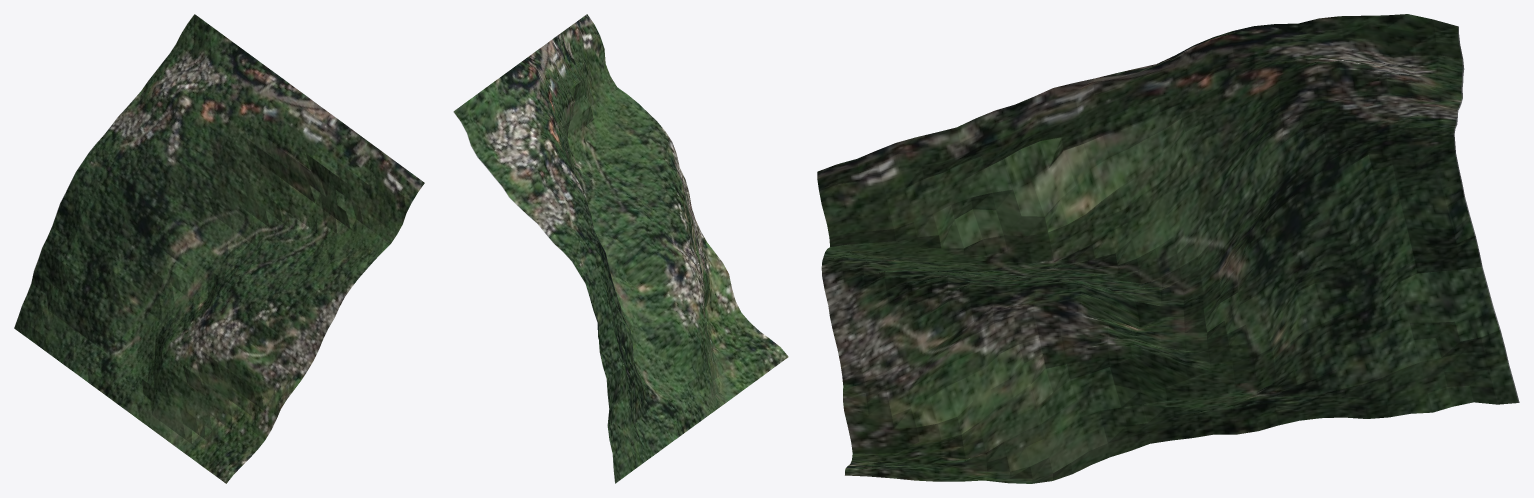
3 views of the same model, side by side, from view 1: azimuth 30°, elevation 25°; view 2: azimuth 150°, elevation 25°; view 3: azimuth 270°, elevation 25° (orthographic). The views are drawn at different scales.
Size of the model in its own units: 789 by 1108 by 1207.
Materials: 1 (1 with a texture image).
